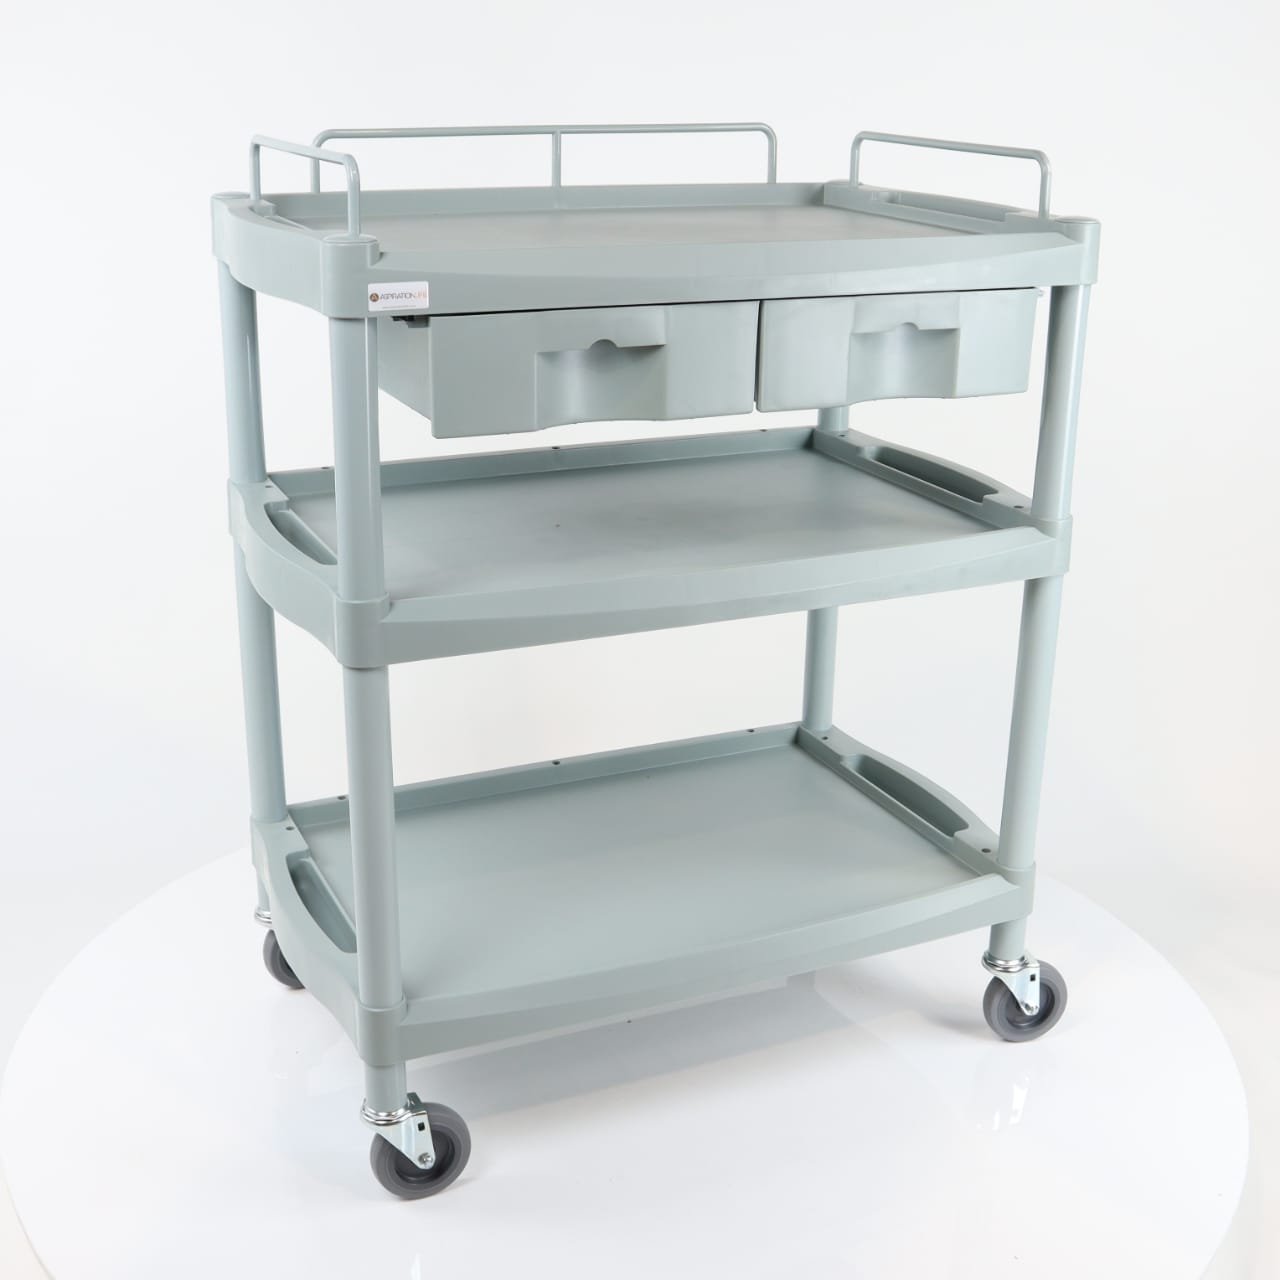Carts: (209, 121, 1073, 1199)
